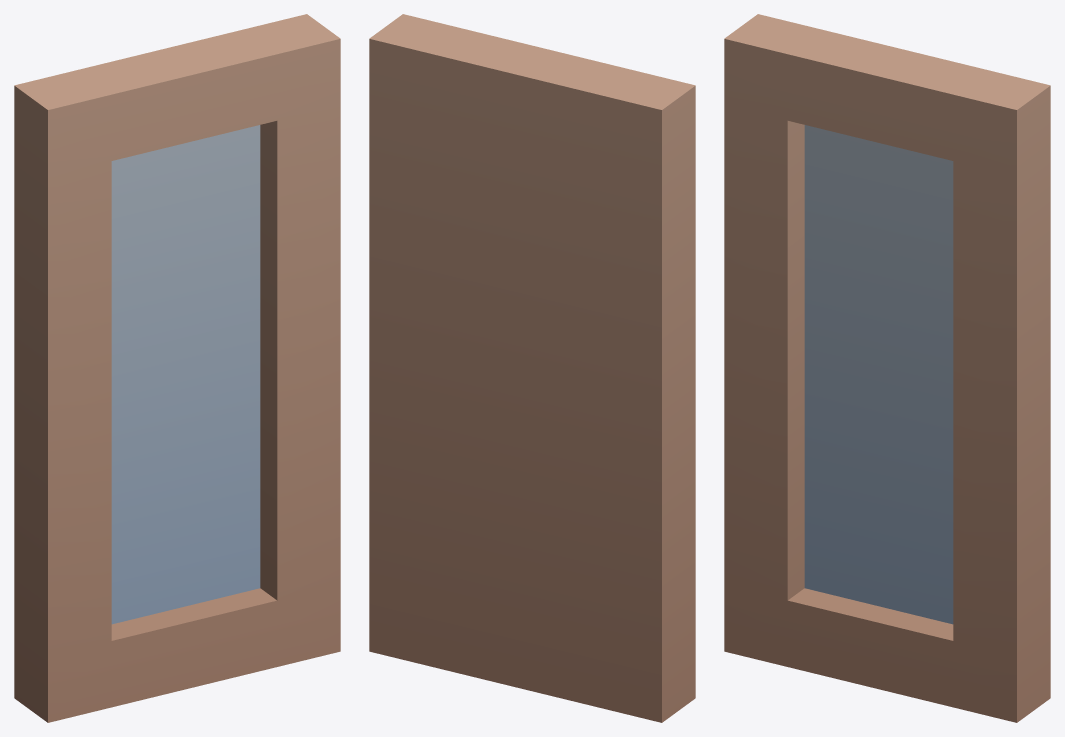
File: door-brown-glass.glb
3 views of the same model, side by side, from view 1: azimuth 30°, elevation 25°; view 2: azimuth 150°, elevation 25°; view 3: azimuth 330°, elevation 25° (orthographic).
Visible parts, largest first — view 1: door-brown-glass; view 2: door-brown-glass; view 3: door-brown-glass.
Boxes of the visible parts, x1,y1,x2,y2 form: door-brown-glass: (14,14,340,722); door-brown-glass: (369,14,695,722); door-brown-glass: (724,14,1050,722).
Size of the model in its own units: 0.25 by 0.5 by 0.05.
